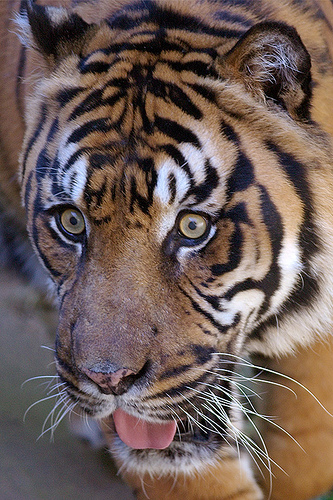Tigre: (12, 6, 321, 446)
